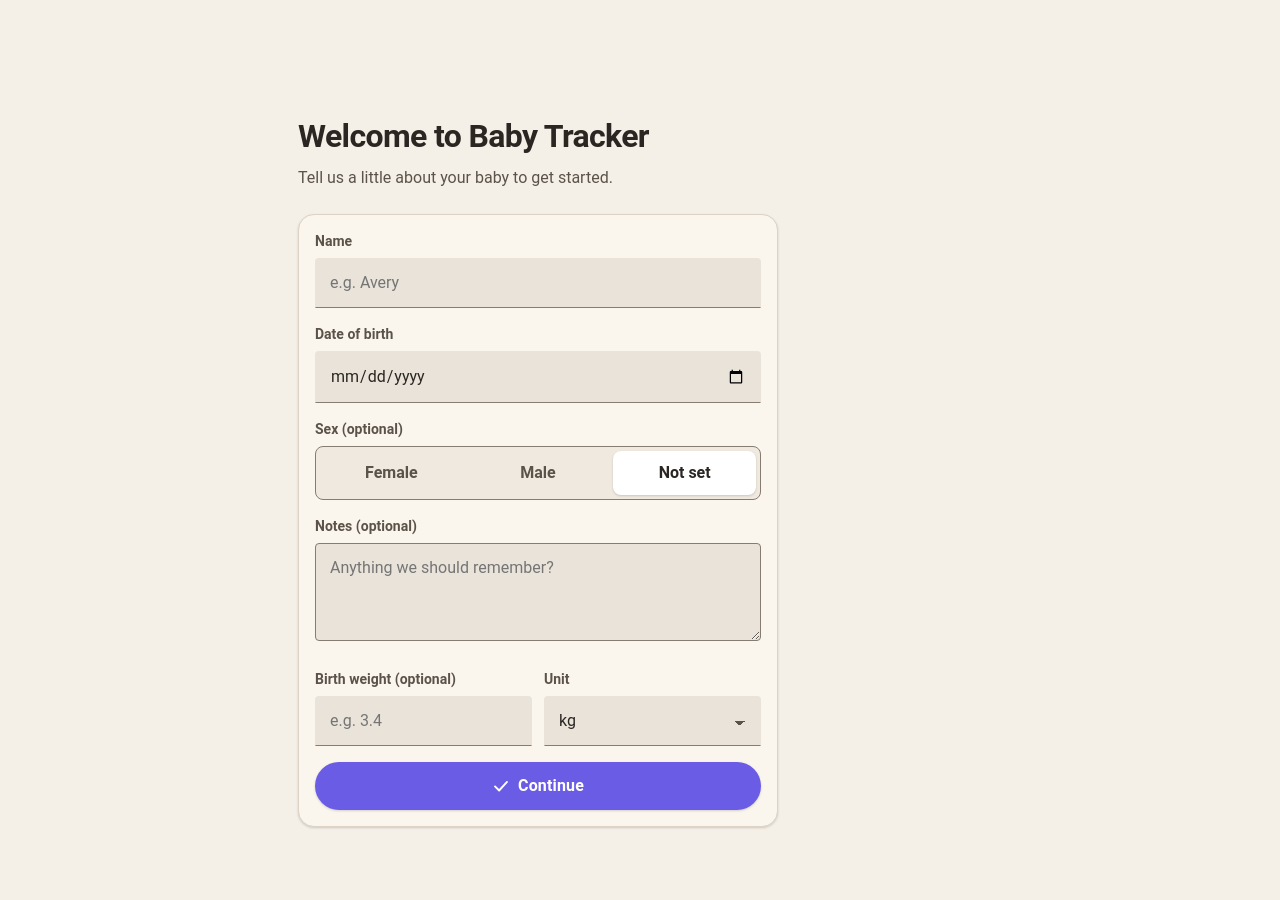
Test: Growth chart zoom modal › opens on tapping the weight chart and shows the zoomed chart + hint
Type "Avery" into the field labelled "Name". click: [538, 283]
box: [315,258,761,308]
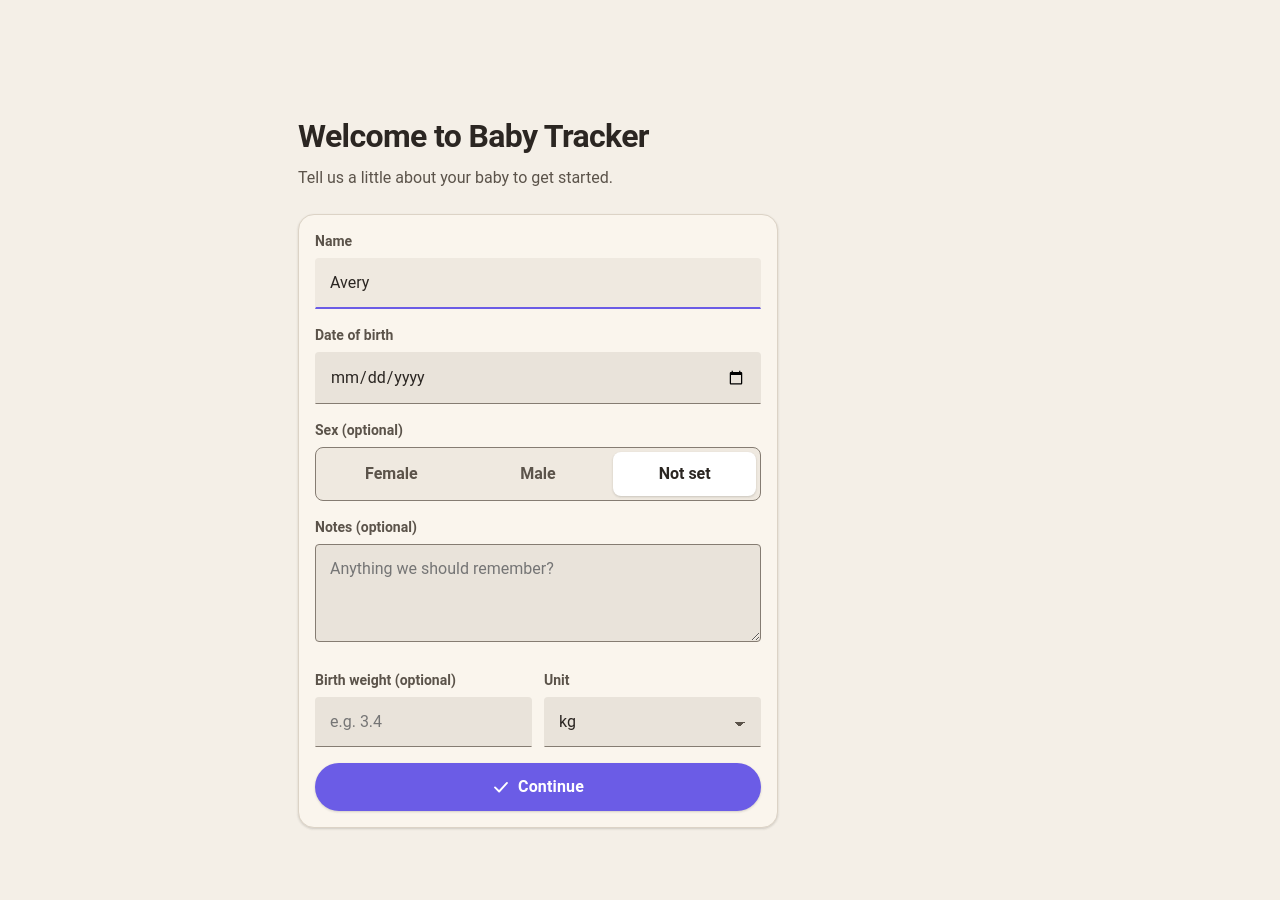
Type "2026-01-15" into the date field labelled "Date of birth". click: [538, 378]
box: [315,352,761,404]
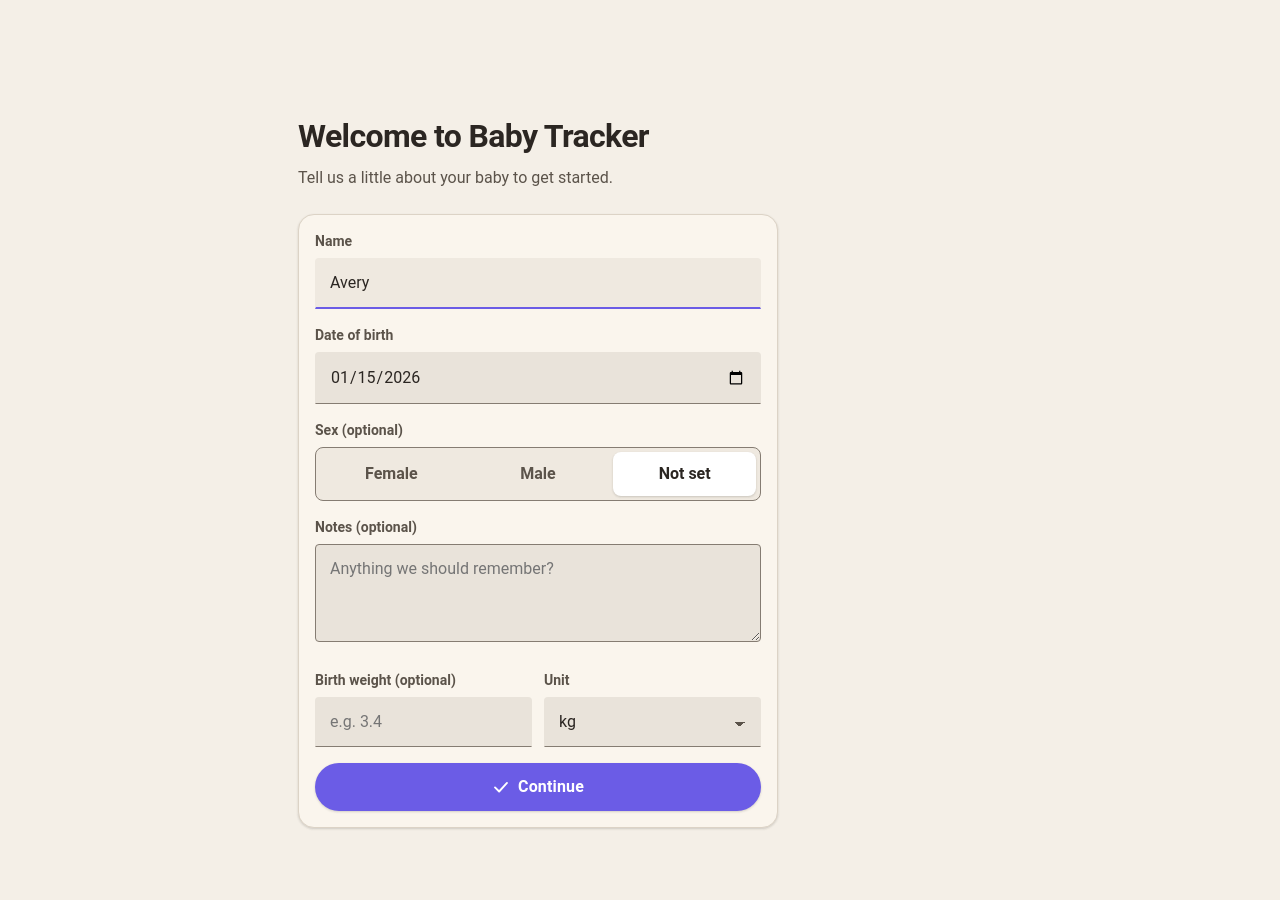
Click the button "Continue". click: [538, 787]
box: [315,763,761,811]
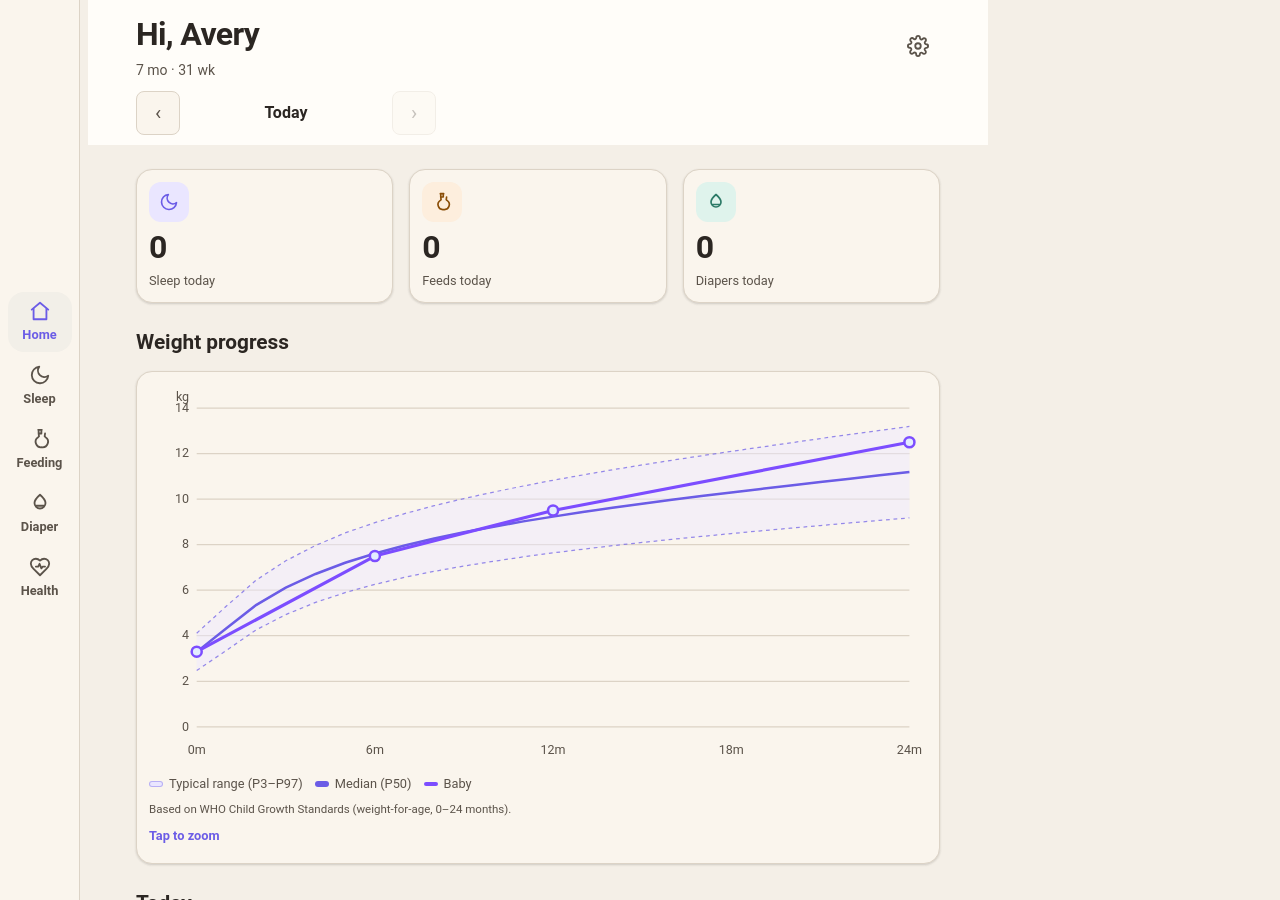
Click the button with aria-label "open weight chart zoom". click: [538, 835]
box: [136,371,940,864]
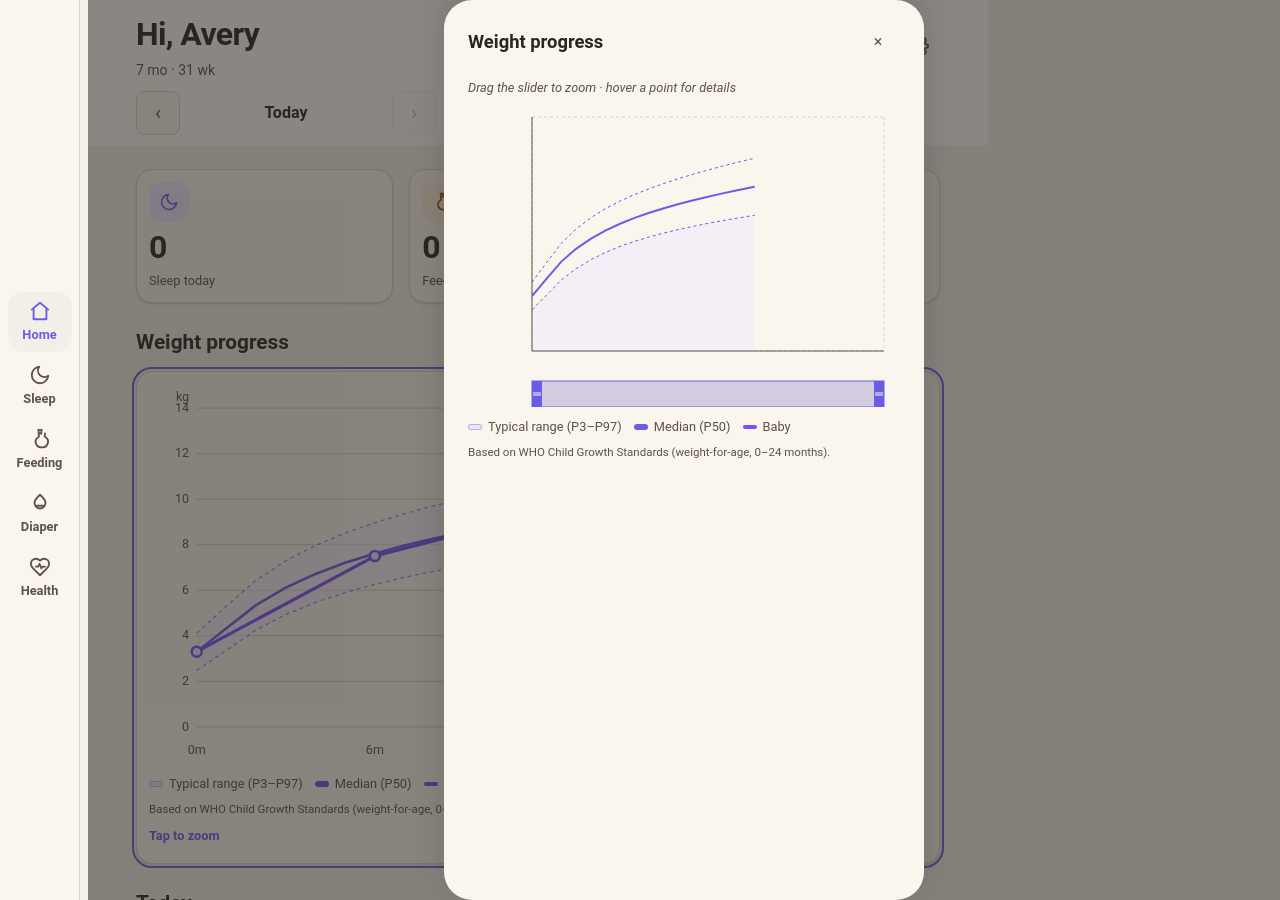
Expected: the dialog "Weight progress" is shown, [444,0,924,899]
Expected: the text "Drag the slider to zoom · hover a point for details" is shown, [468,80,736,95]
Expected: the element with class "zoom-chart" is shown, [468,107,900,407]
